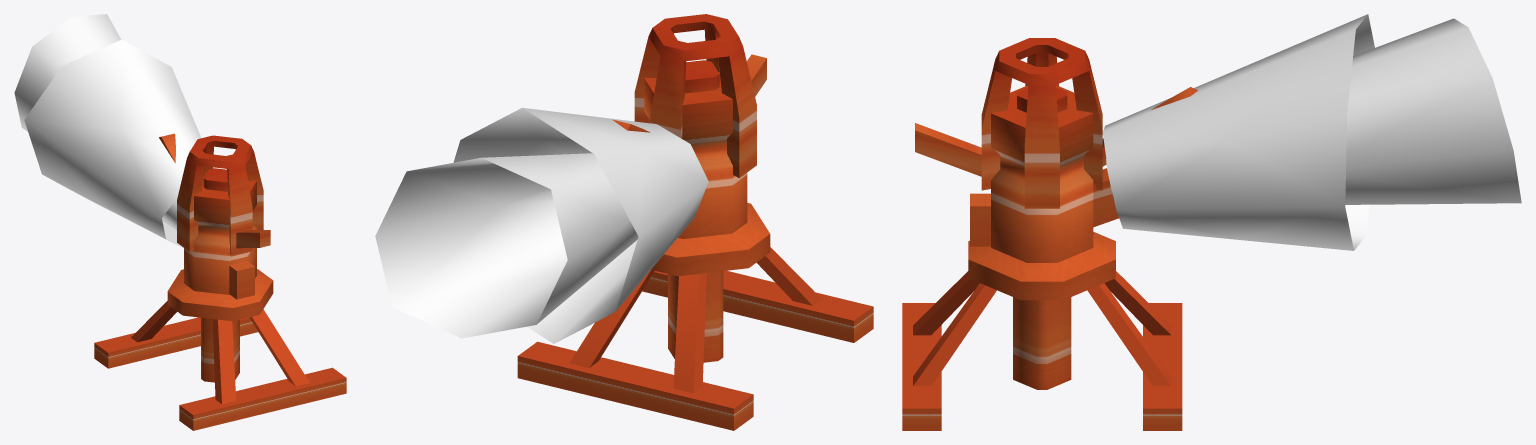
The model's file is Sprinkler.fbx.
3 renders of one model, left to right at view 1: azimuth 30°, elevation 25°; view 2: azimuth 150°, elevation 25°; view 3: azimuth 270°, elevation 25°, orthographic. The views are drawn at different scales.
Visible parts, largest first — view 1: SplashMesh, Sprinker, SprinklerTurner; view 2: SplashMesh, Sprinker, SprinklerTurner; view 3: SplashMesh, Sprinker, SprinklerTurner.
Part boxes in pixels (left/top/right/bottom): SplashMesh: left=14, top=14, right=213, bottom=248; Sprinker: left=94, top=168, right=346, bottom=430; SprinklerTurner: left=159, top=133, right=270, bottom=256; SplashMesh: left=375, top=107, right=708, bottom=343; Sprinker: left=517, top=60, right=873, bottom=430; SprinklerTurner: left=612, top=14, right=766, bottom=178; SplashMesh: left=1102, top=14, right=1521, bottom=250; Sprinker: left=902, top=85, right=1182, bottom=430; SprinklerTurner: left=915, top=38, right=1197, bottom=208.
Size of the model in its own units: 0.6338 by 0.9897 by 1.56.
